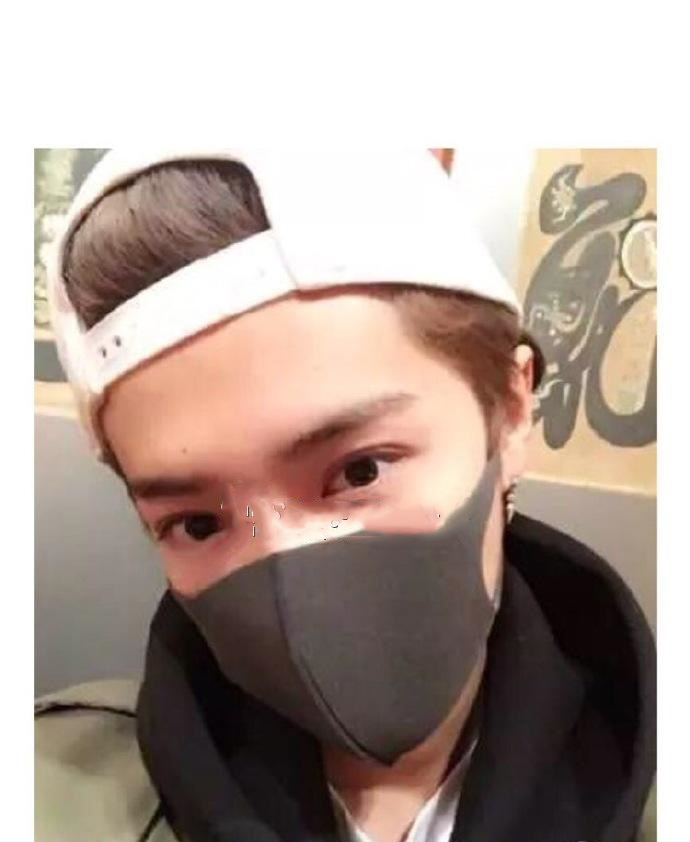face_mask: (126, 295, 483, 749)
